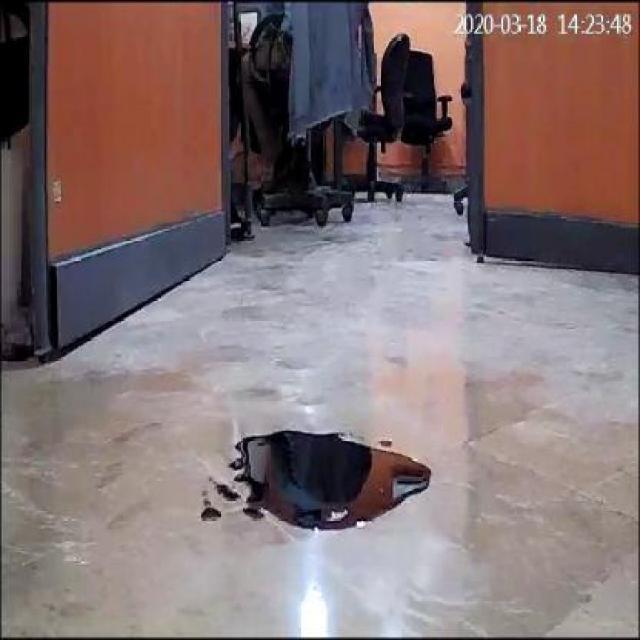spill: (230, 426, 428, 531)
